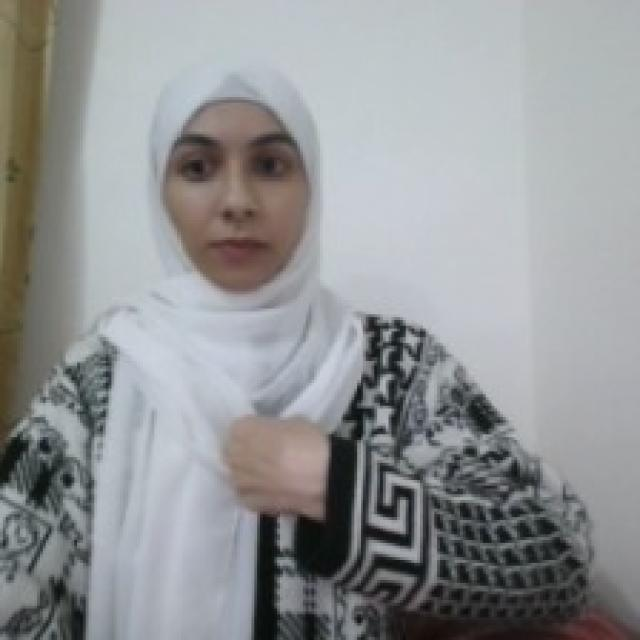me: (220, 409, 338, 527)
